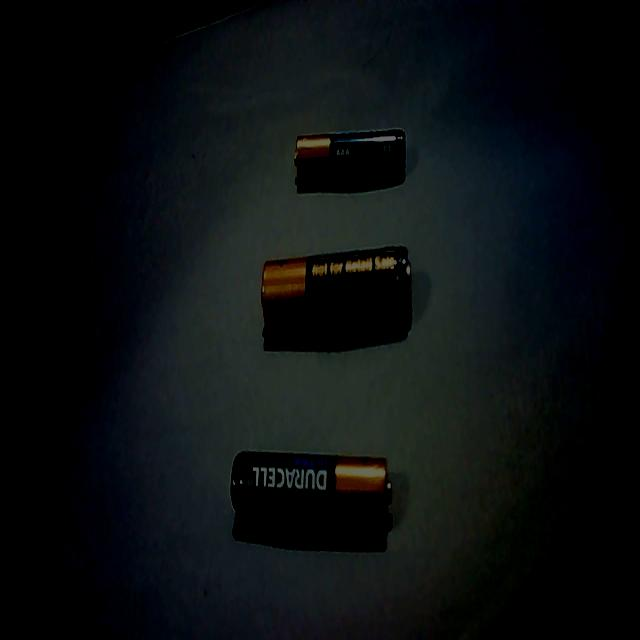AA: (257, 236, 415, 348)
AAA: (224, 444, 394, 542), (289, 123, 409, 192)
